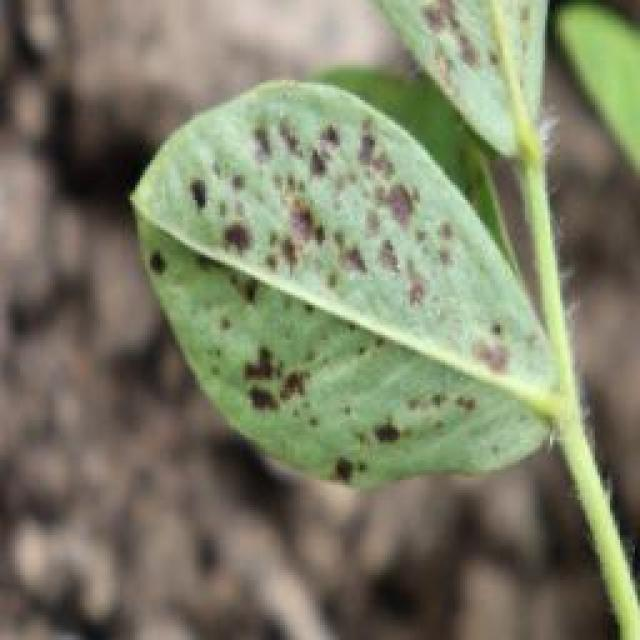Whitefly: (99, 67, 554, 491), (330, 0, 555, 167)
